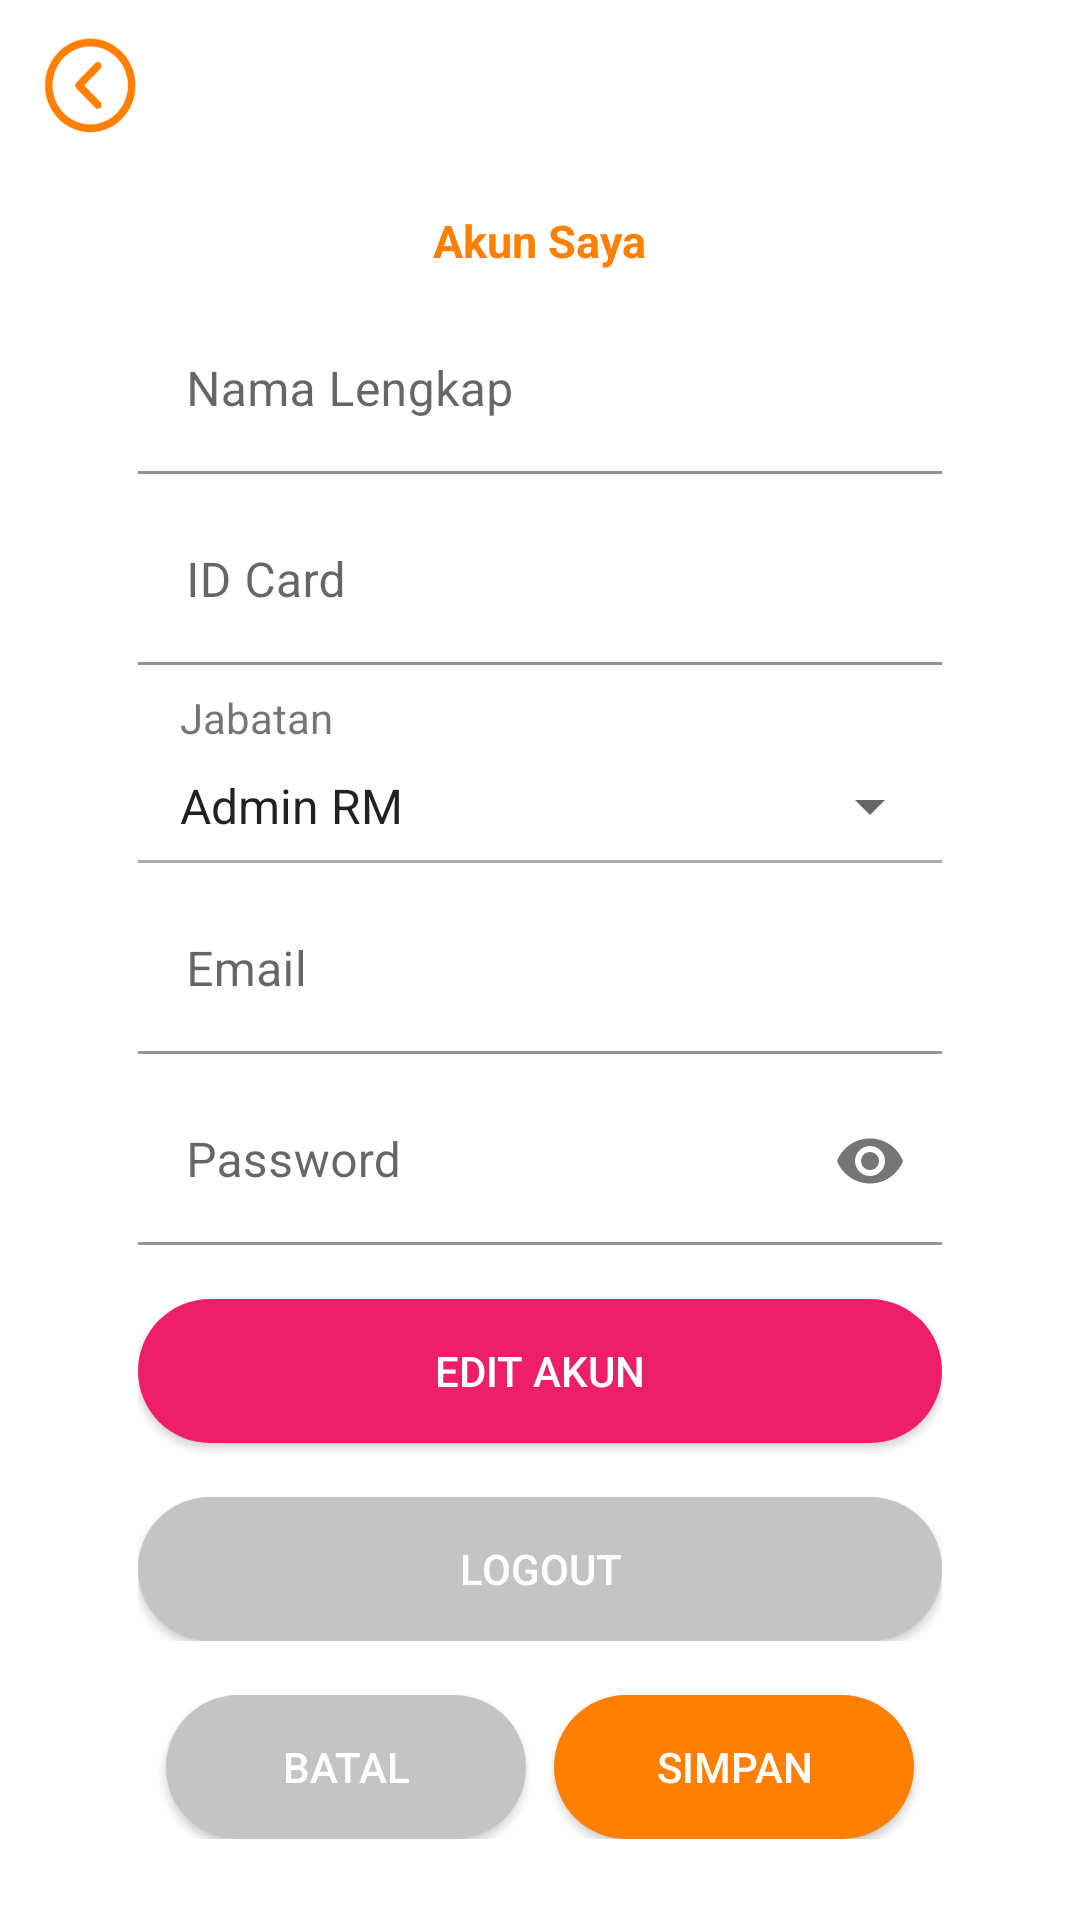

Screen size 1080 x 1920. Icon name, then its box in pixels as box=[x1, y1, x2, y2]:
back: box=[44, 38, 136, 133]
